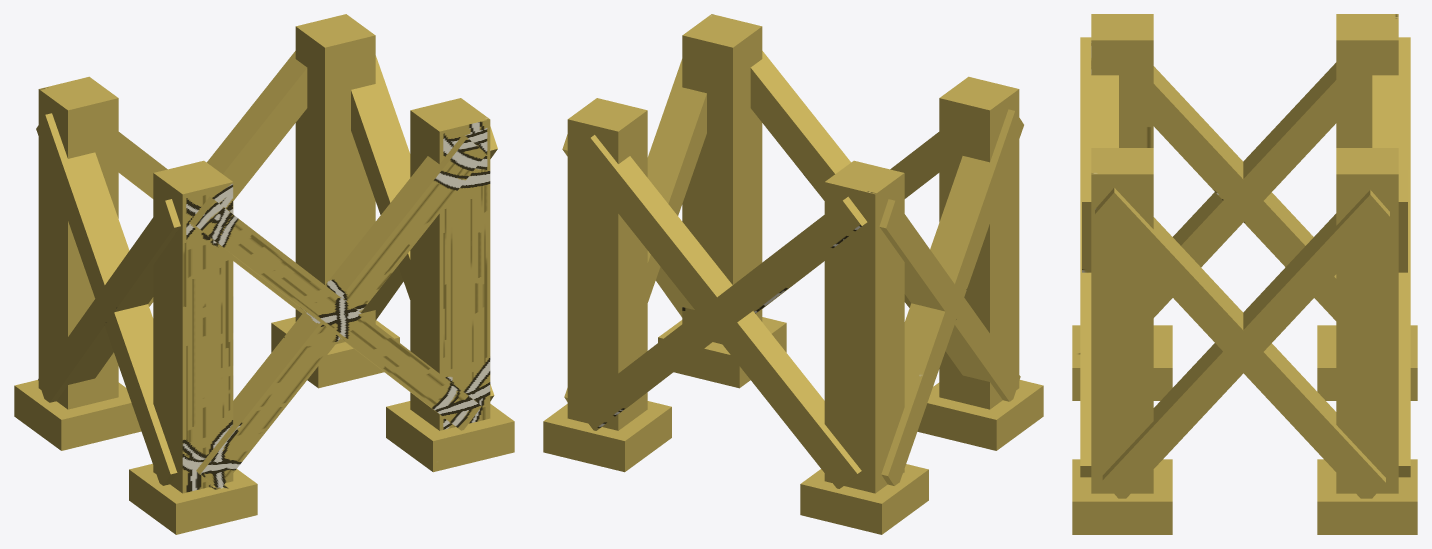
File: expansion_1.fbx
The picture shows the model from 3 angles, left to right: view 1: azimuth 30°, elevation 25°; view 2: azimuth 150°, elevation 25°; view 3: azimuth 270°, elevation 25°; orthographic projection. The views are drawn at different scales.
Visible parts, largest first — view 1: Cube.001; view 2: Cube.001; view 3: Cube.001.
Part boxes in pixels (x1,y1,x2,y2): Cube.001: (14,14,514,534); Cube.001: (543,14,1043,534); Cube.001: (1072,14,1417,534).
Size of the model in its own units: 124 by 116 by 103.
